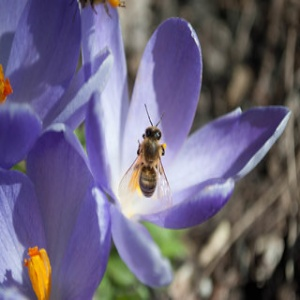bee: (124, 102, 172, 210)
